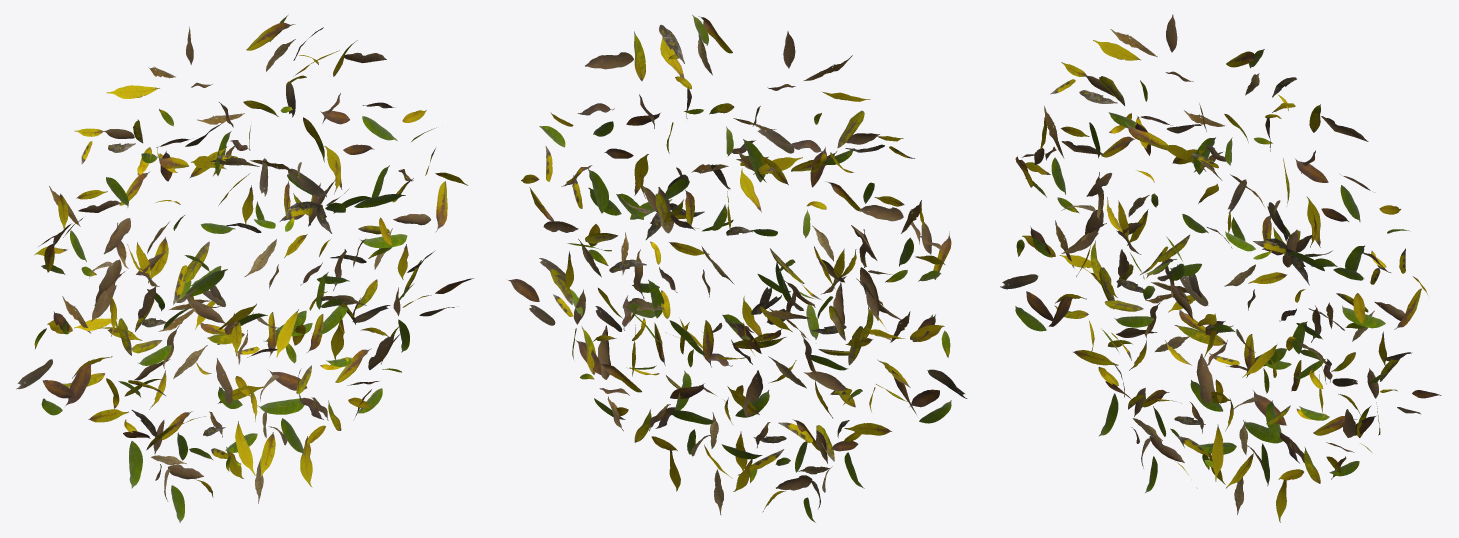
Rendered from Leaf_Pile_03_Var1_LOD1.fbx.
The picture shows the model from 3 angles, left to right: view 1: azimuth 30°, elevation 25°; view 2: azimuth 150°, elevation 25°; view 3: azimuth 330°, elevation 25°; orthographic projection. The views are drawn at different scales.
Visible parts, largest first — view 1: Var1_LOD1; view 2: Var1_LOD1; view 3: Var1_LOD1.
Part boxes in pixels (box(x1,y1,x2,y2)): Var1_LOD1: box(16, 14, 474, 522); Var1_LOD1: box(508, 14, 967, 522); Var1_LOD1: box(1000, 14, 1441, 522).
Bounding box in the file's own units: 114 × 118 × 8.38.
